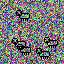sheep: (44, 37, 59, 49), (16, 44, 31, 55), (16, 10, 30, 21), (11, 38, 26, 48), (36, 48, 49, 59)
